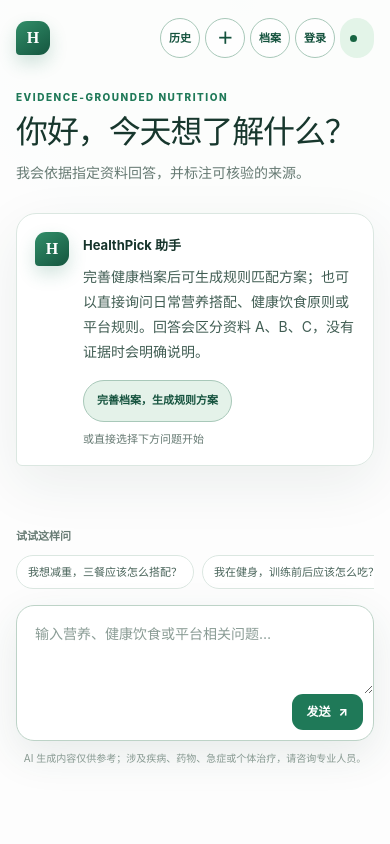
Scenario: ChatWorkspace › opens mobile history and closes it with Escape
Click the button with aria-label "打开最近对话（移动端）" at (180, 38), box left=160, top=18, right=200, bottom=58
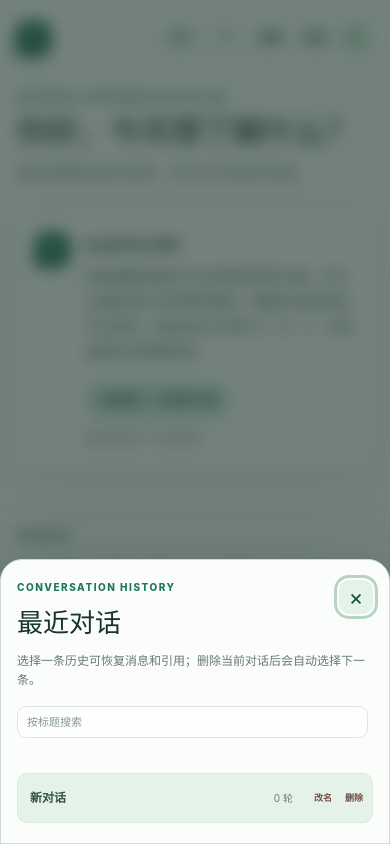
Expected: the button with aria-label "新对话，0 轮，当前对话" is shown, left=18, top=774, right=305, bottom=822
Press Escape
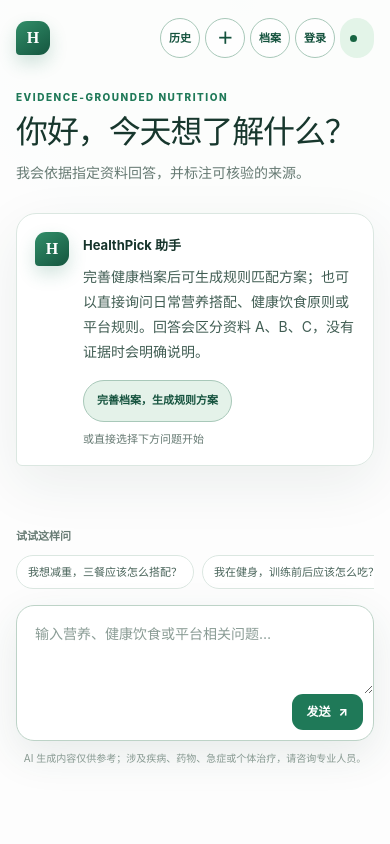
Expected: the heading "最近对话" is gone
